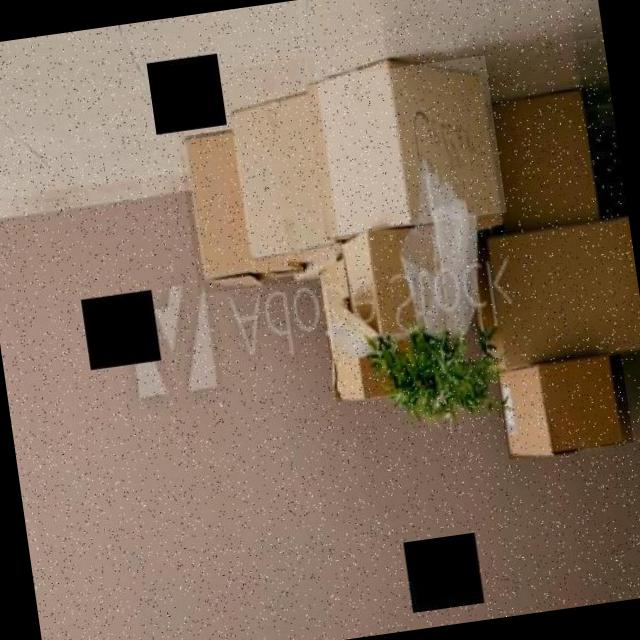box: (312, 55, 506, 236), (470, 198, 640, 372), (176, 118, 308, 296), (224, 56, 342, 255), (317, 245, 436, 402), (490, 84, 612, 229), (342, 213, 474, 342), (496, 338, 634, 459)
